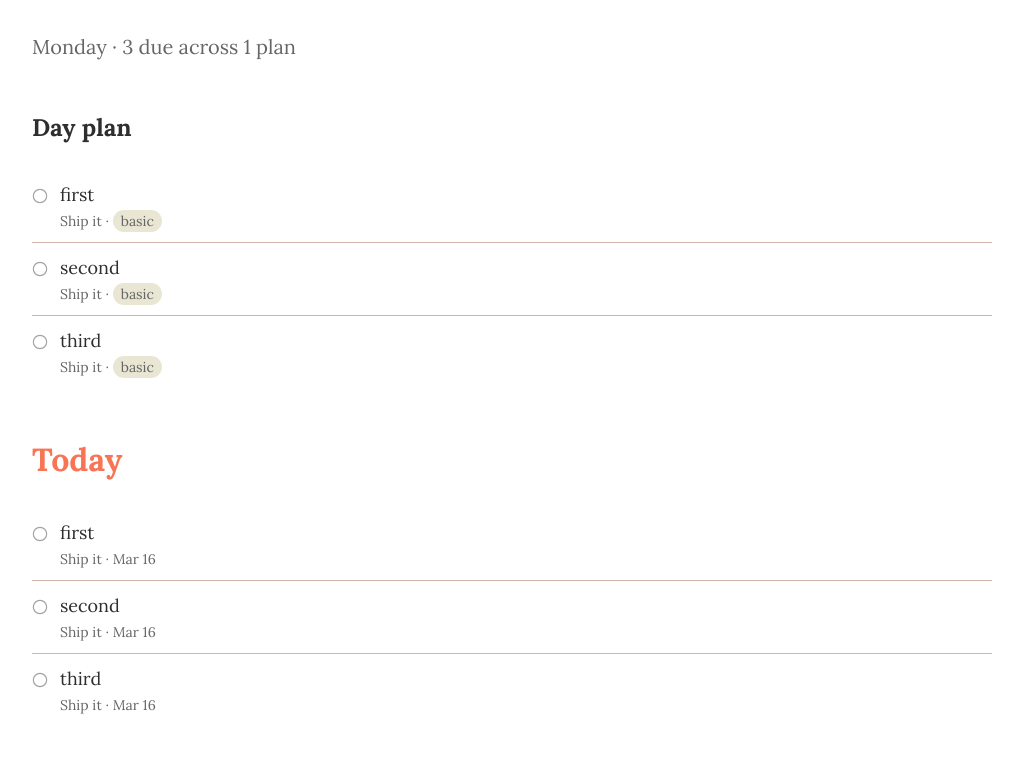
Test: Dashboard — ticking a row off home (R33) › should mark the row done before the write resolves
expect the heading "Today" is shown: met, box [32, 439, 122, 480]
Click the checkbox named "second" at (40, 607), box [32, 599, 48, 615]
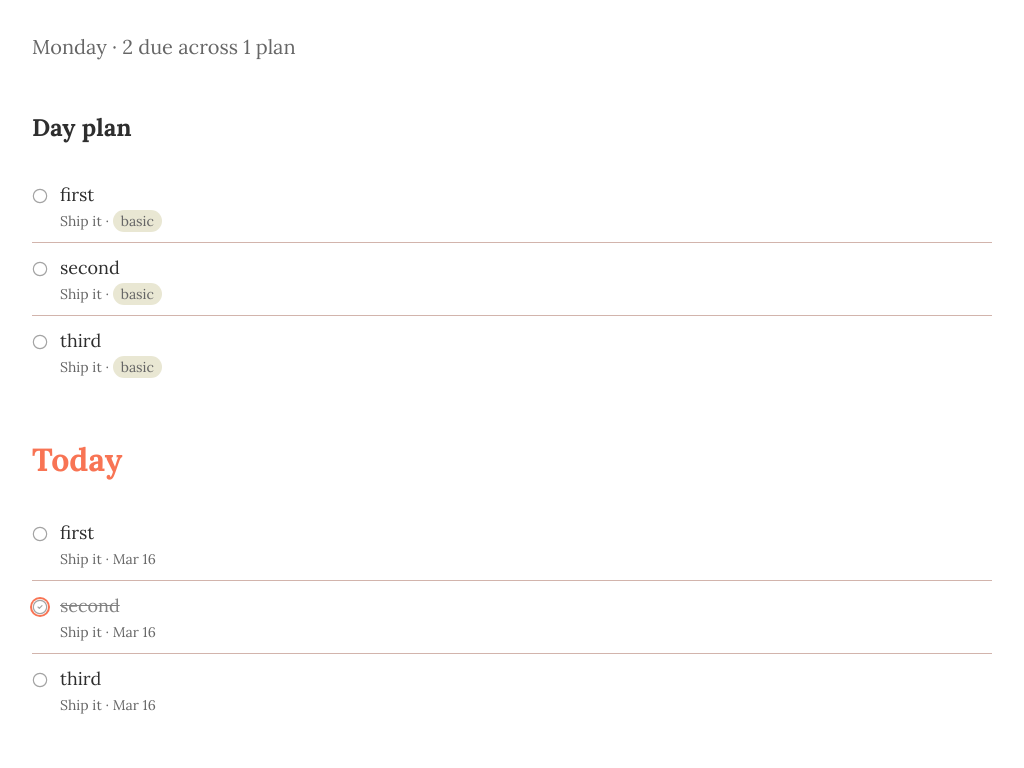
expect the text "Monday · 2 due across 1 plan" is shown: met, box [32, 34, 296, 59]
